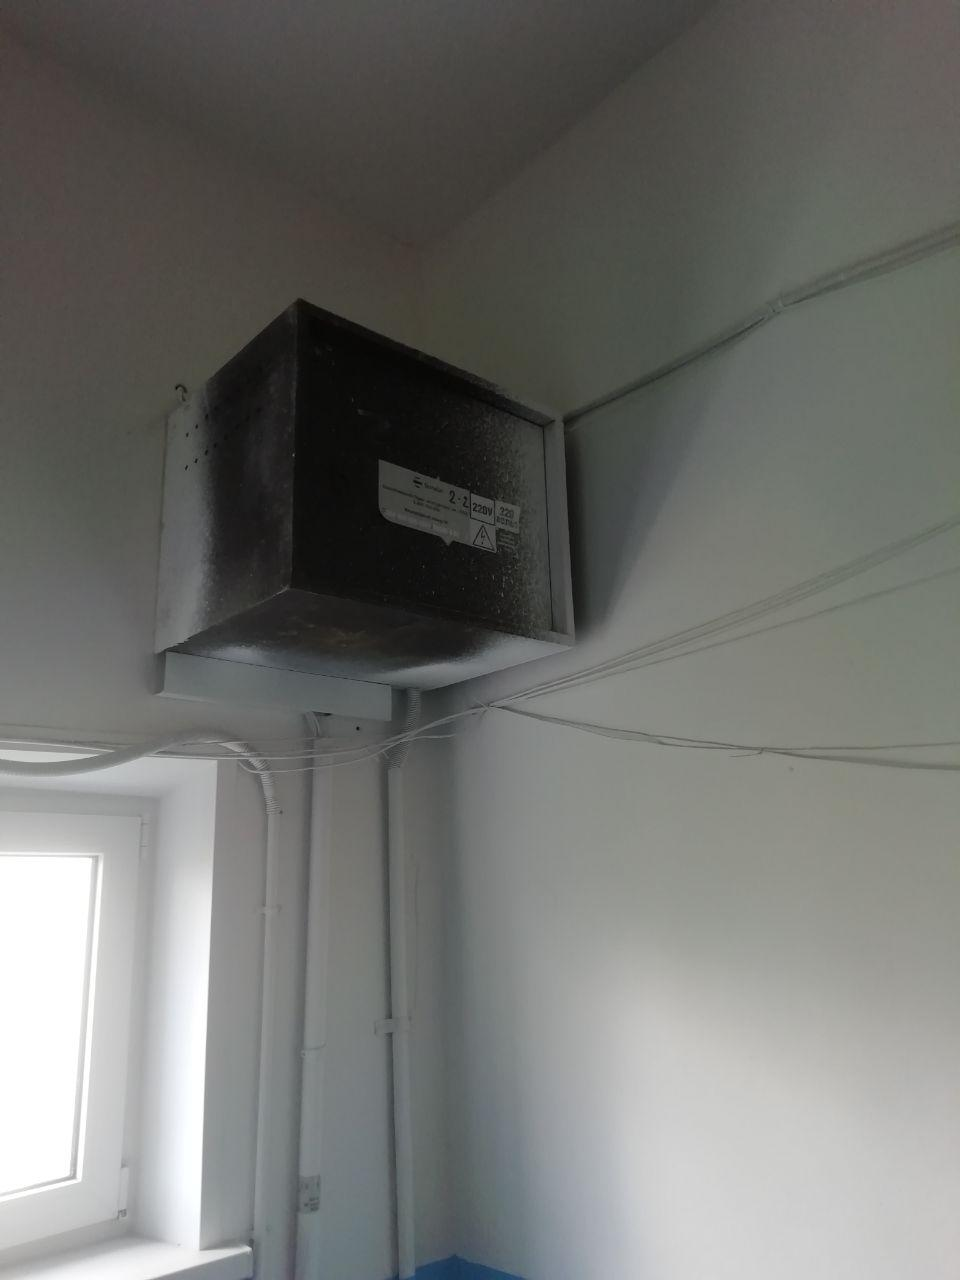shta-9m: (137, 287, 589, 705)
